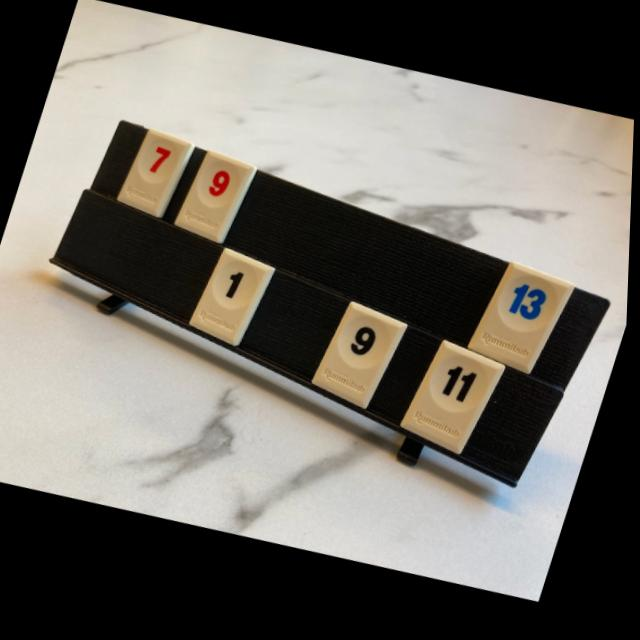black_1: (192, 251, 276, 349)
black_11: (404, 346, 508, 461)
black_9: (316, 307, 409, 414)
blue_13: (472, 269, 577, 382)
red_7: (118, 131, 195, 220)
red_9: (176, 154, 256, 246)
